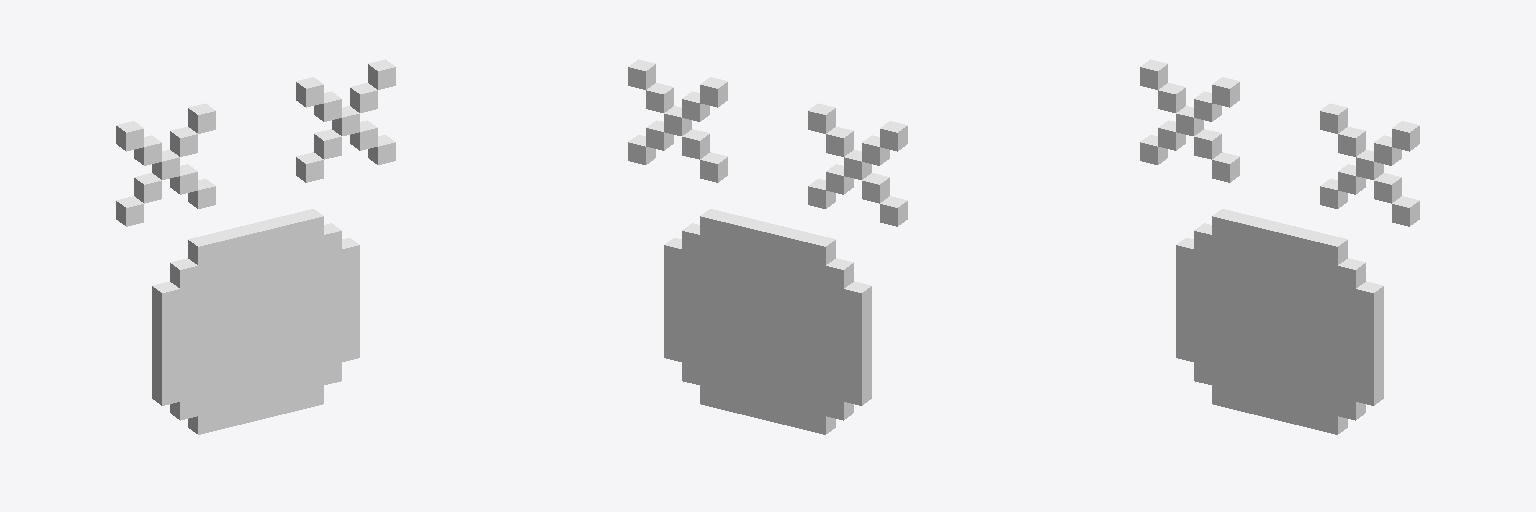
The model's file is X-Man.obj.
3 renders of one model, left to right at view 1: azimuth 30°, elevation 25°; view 2: azimuth 150°, elevation 25°; view 3: azimuth 330°, elevation 25°, orthographic.
Visible parts, largest first — view 1: X-Man; view 2: X-Man; view 3: X-Man.
Boxes of the visible parts, <box> form: X-Man: <box>116,59,395,434</box>; X-Man: <box>628,59,907,434</box>; X-Man: <box>1140,59,1419,434</box>.
Size of the model in its own units: 15 by 17 by 1.